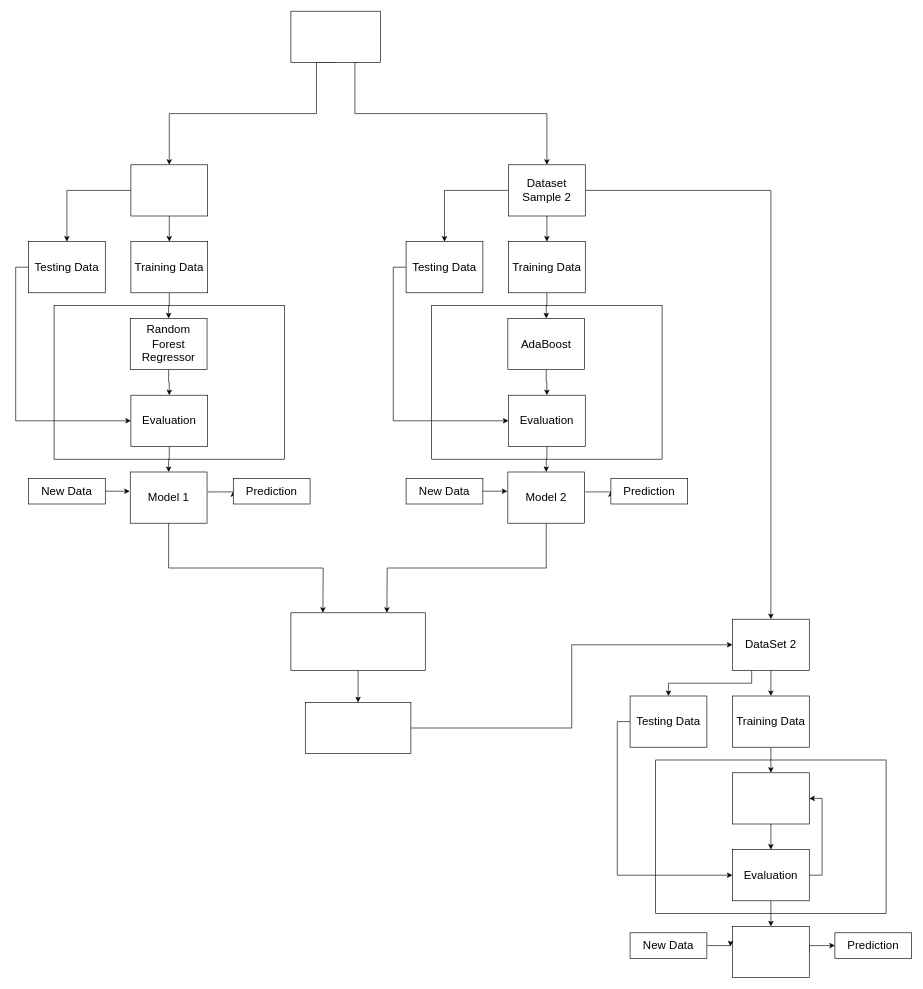
This 923x989 diagram has some shape labels left out. The box of each missing label's shape, as (x1, y1, x2, y2) in pixels:
Algorithm: (732, 772, 809, 824)
Dataset Sample 1: (130, 164, 208, 216)
Final Model: (732, 926, 809, 978)
Model Comparison: (290, 612, 425, 670)
Original Dataset: (290, 11, 380, 62)
Results of the better model: (305, 702, 411, 754)
